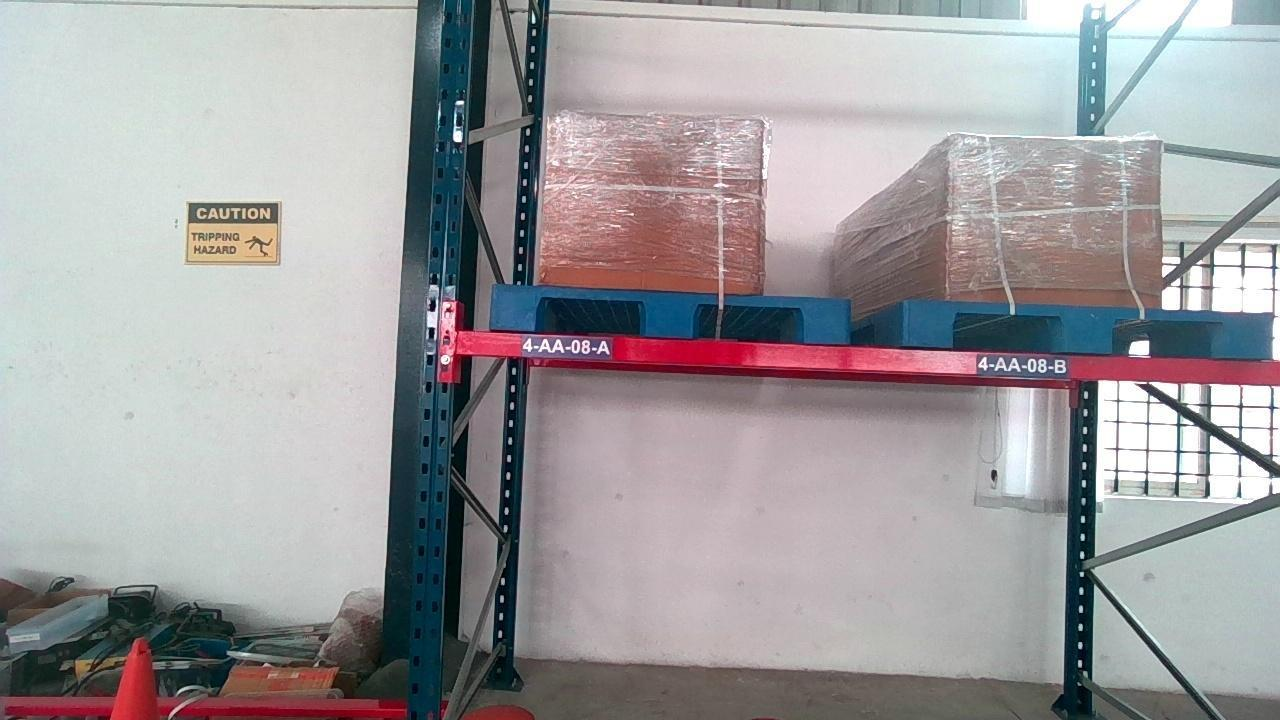h_rack: (458, 332, 1280, 382)
small_pallet: (902, 302, 1271, 353), (489, 289, 848, 337)
